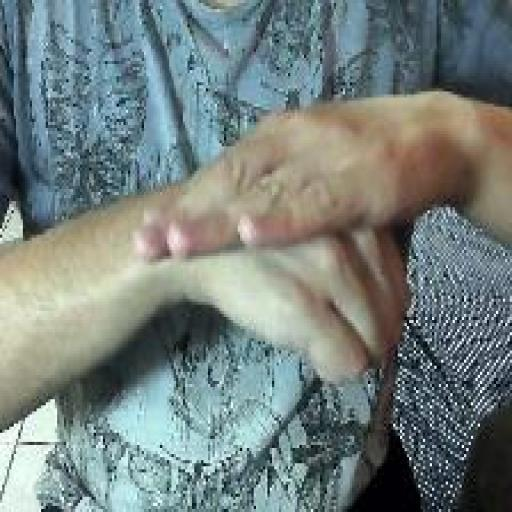Inu -dog-: (130, 99, 414, 392)
